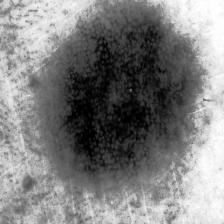Benign Marking or Mole: (42, 6, 201, 184)
